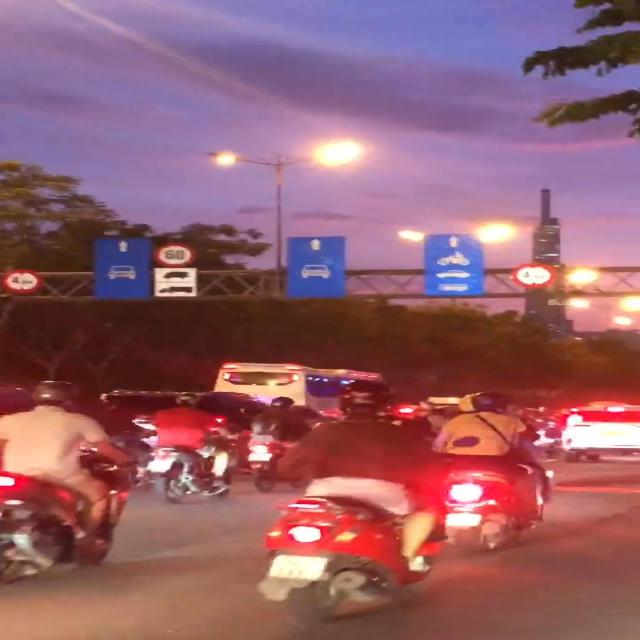Bien bao han che chieu cao: (509, 259, 564, 293), (1, 264, 43, 298)
Bien bao toc do toi da cho phep: (149, 236, 199, 269)
